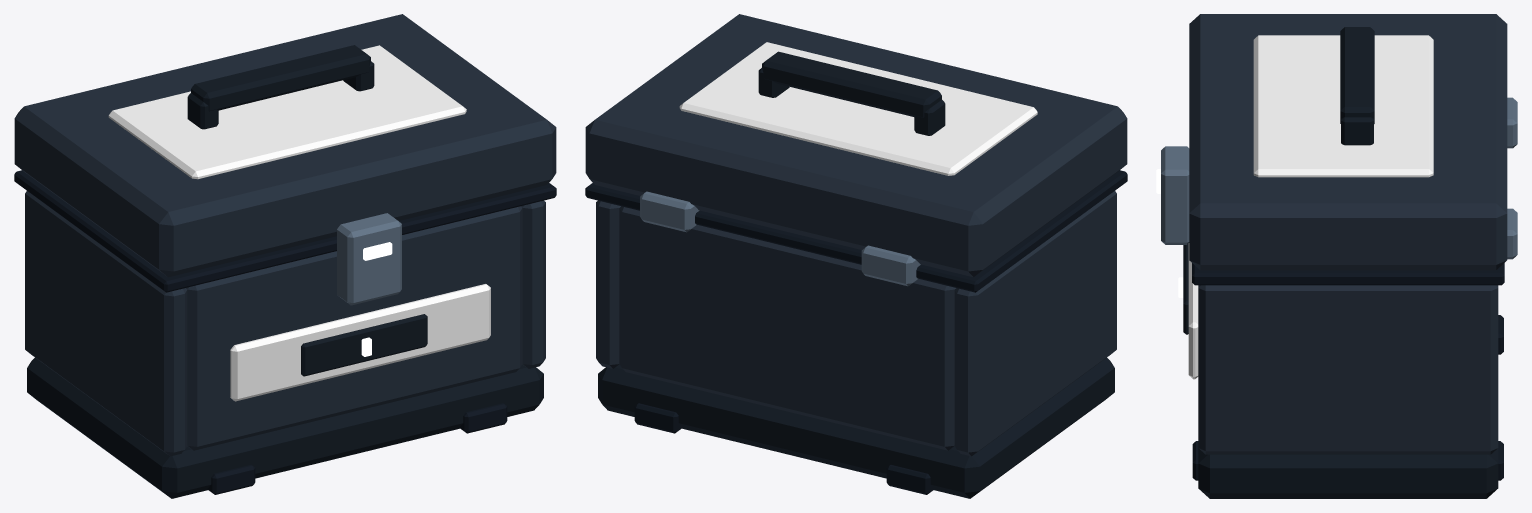
The model's file is CommonChest.glb.
3 views of the same model, side by side, from view 1: azimuth 30°, elevation 25°; view 2: azimuth 150°, elevation 25°; view 3: azimuth 270°, elevation 25° (orthographic). The views are drawn at different scales.
Visible parts, largest first — view 1: Body, Lid; view 2: Body, Lid; view 3: Lid, Body.
Boxes of the visible parts, x1=… form: Body: x1=25, y1=191, x2=545, y2=498; Lid: x1=14, y1=14, x2=556, y2=292; Body: x1=596, y1=191, x2=1116, y2=498; Lid: x1=585, y1=14, x2=1127, y2=292; Lid: x1=1189, y1=14, x2=1517, y2=285; Body: x1=1156, y1=146, x2=1503, y2=498.
Bounding box in the file's own units: 1.02 × 0.817 × 0.783.
Materials: 1 (1 with a texture image).
